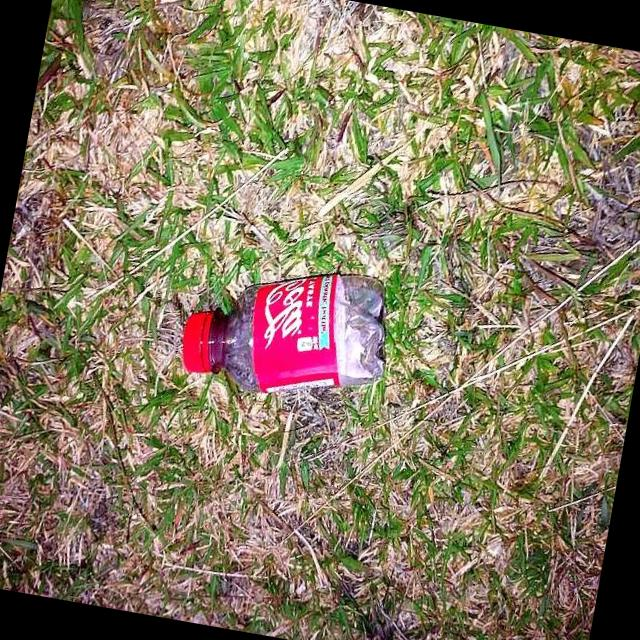Non-biodegradable: (175, 247, 400, 415)
